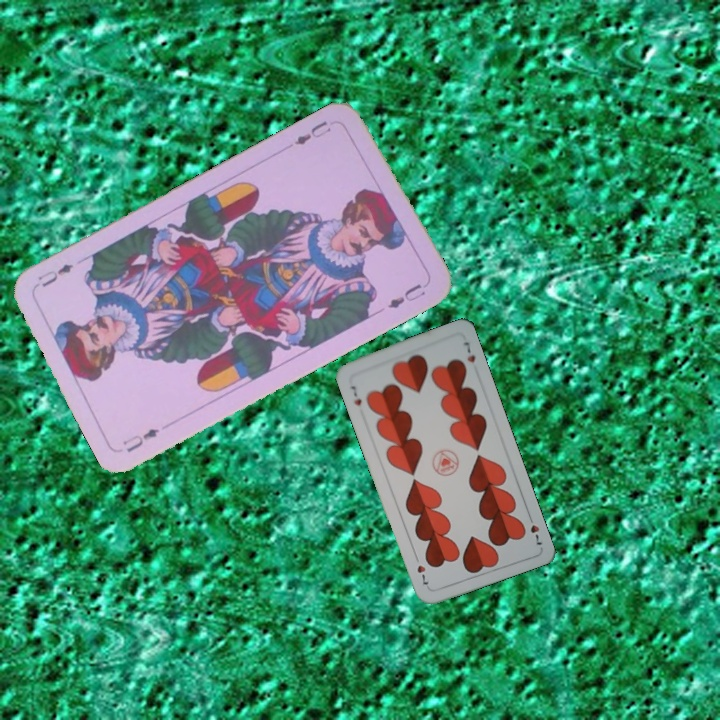EU: (290, 116, 334, 148), (118, 424, 162, 455)
H7: (524, 510, 545, 548), (347, 381, 364, 408)
